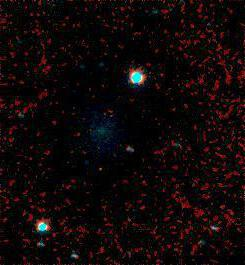star: (85, 156, 115, 186)
